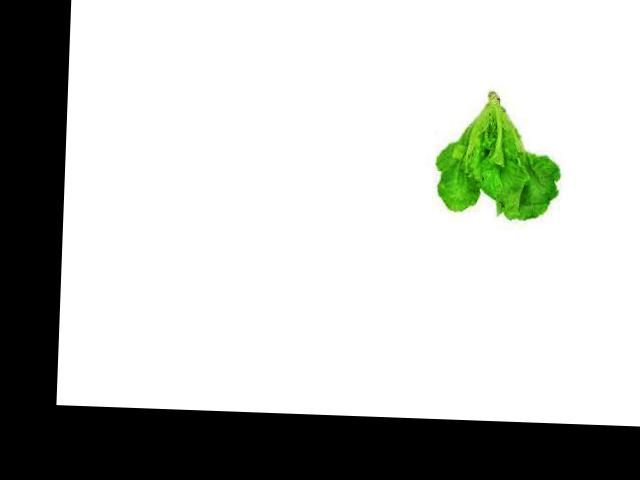lettuce: (421, 59, 559, 239)
